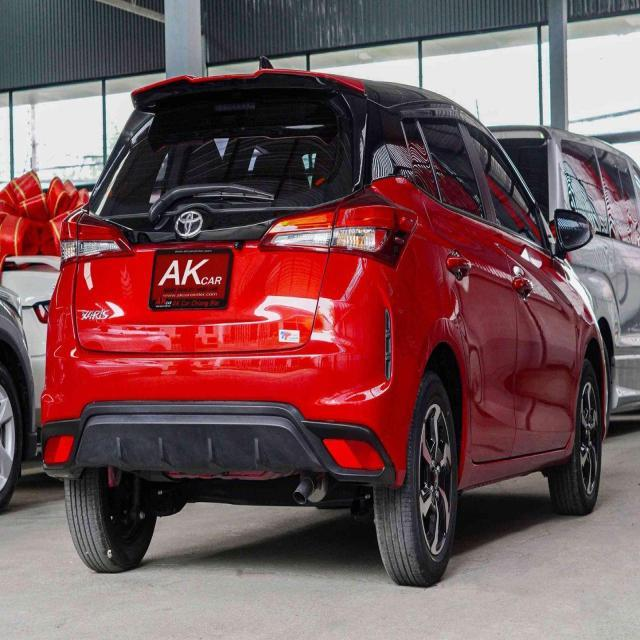Hatchback: (36, 65, 615, 591)
